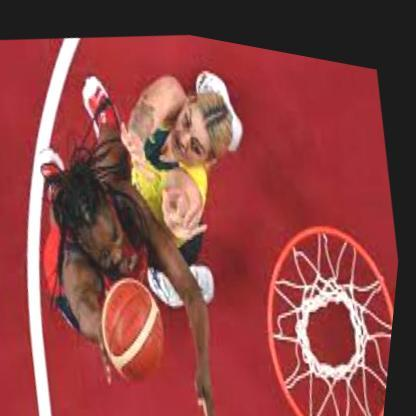basketball: (94, 261, 184, 386)
rim: (243, 187, 405, 416)
